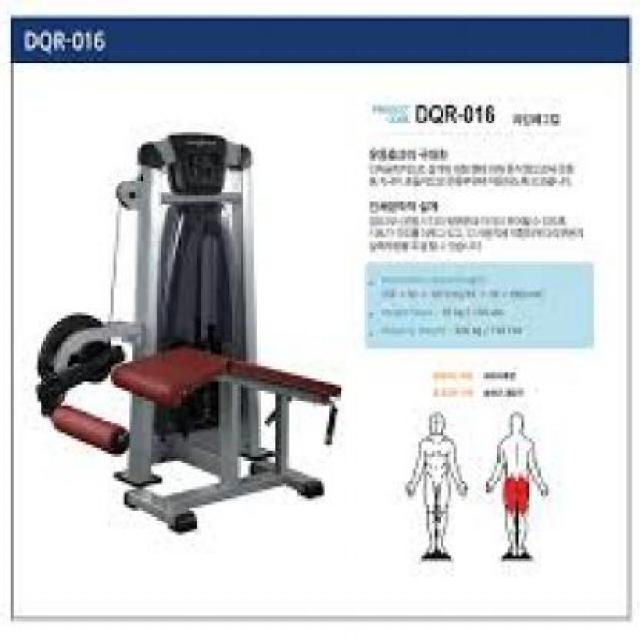reg curl machine: (32, 126, 346, 534)
